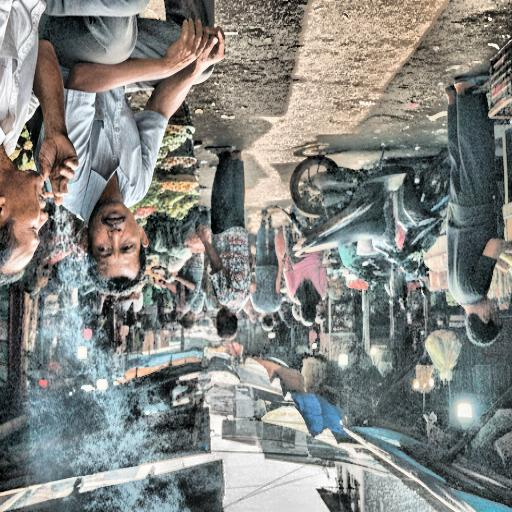Rokok: (0, 42, 78, 269), (72, 21, 239, 117)
